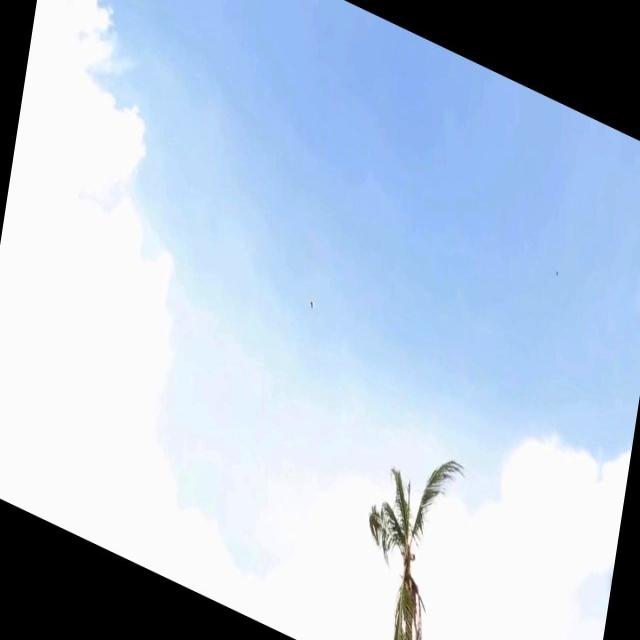drone: (307, 295, 318, 316)
